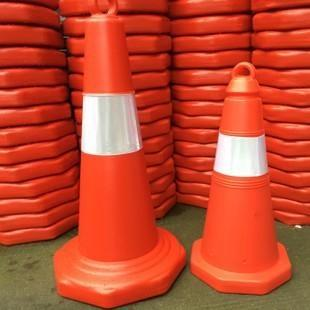cone_barrel: (64, 8, 166, 278), (193, 66, 282, 281)
